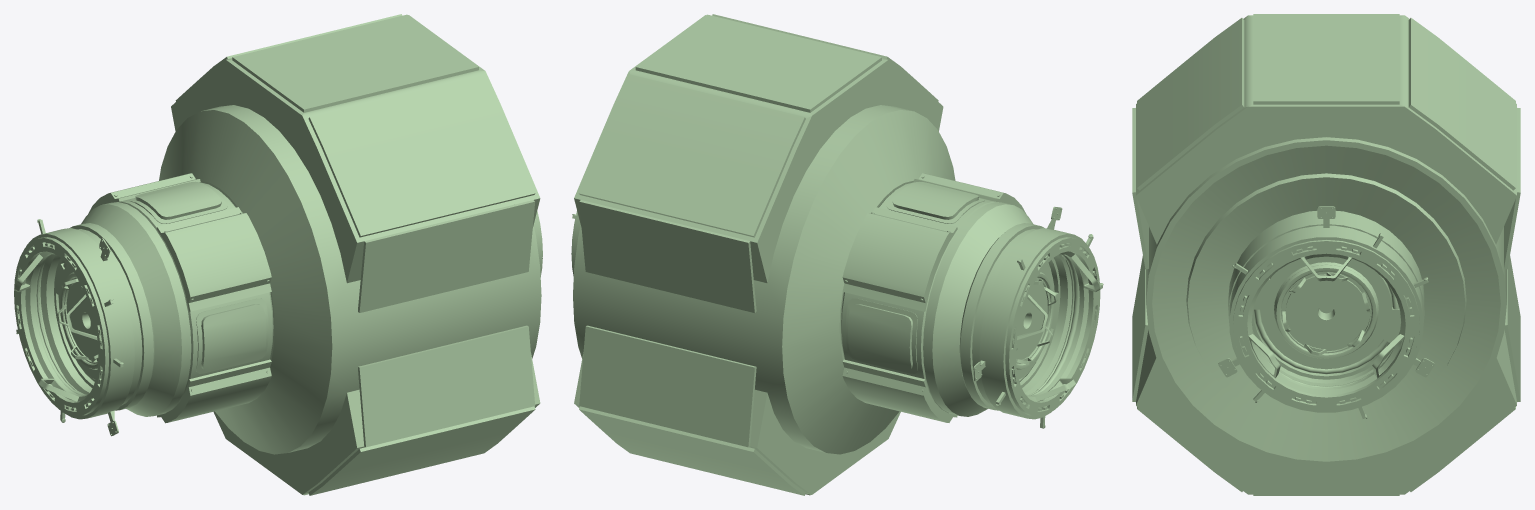
File: Espirit_Refueller.FBX
3 views of the same model, side by side, from view 1: azimuth 30°, elevation 25°; view 2: azimuth 150°, elevation 25°; view 3: azimuth 270°, elevation 25° (orthographic). The views are drawn at different scales.
Visible parts, largest first — view 1: Espirit_Refueller_Main, Espirit_Refueller_Detail02, Espirit_Refueller_Connector01_Main01, Espirit_Refueller_Connector01_Main01_Outer01, Espirit_Refueller_Connector01_Main01_OuterRing01, Espirit_Refueller_Detail01, Espirit_Refueller_Detail04, Espirit_Refueller_Detail03, Espirit_Refueller_Detail08; view 2: Espirit_Refueller_Main, Espirit_Refueller_Detail08, Espirit_Refueller_Connector01_Main01, Espirit_Refueller_Connector01_Main01_Outer01, Espirit_Refueller_Connector01_Main01_OuterRing01, Espirit_Refueller_Detail07, Espirit_Refueller_Detail06, Espirit_Refueller_Detail03, Espirit_Refueller_Detail02, Espirit_Refueller_Connector01_Main01_cable01; view 3: Espirit_Refueller_Main, Espirit_Refueller_Connector02_Main02, Espirit_Refueller_Connector02_Main02_Outer01, Espirit_Refueller_Connector02_Main02_OuterRing01, Espirit_Refueller_Connector02_Main02_Cable03.
Boxes of the visible parts, x1,y1,x2,y2 form: Espirit_Refueller_Main: (69,14,541,495); Espirit_Refueller_Detail02: (156,207,271,311); Espirit_Refueller_Connector01_Main01: (14,251,98,401); Espirit_Refueller_Connector01_Main01_Outer01: (14,229,142,416); Espirit_Refueller_Connector01_Main01_OuterRing01: (16,219,134,436); Espirit_Refueller_Detail01: (196,298,268,373); Espirit_Refueller_Detail04: (157,359,271,423); Espirit_Refueller_Detail03: (129,181,227,223); Espirit_Refueller_Detail08: (88,173,200,213); Espirit_Refueller_Main: (573,14,1044,495); Espirit_Refueller_Detail08: (842,207,957,311); Espirit_Refueller_Connector01_Main01: (1016,251,1100,401); Espirit_Refueller_Connector01_Main01_Outer01: (972,229,1100,416); Espirit_Refueller_Connector01_Main01_OuterRing01: (973,206,1103,428); Espirit_Refueller_Detail07: (845,298,917,373); Espirit_Refueller_Detail06: (842,359,957,422); Espirit_Refueller_Detail03: (886,182,984,223); Espirit_Refueller_Detail02: (914,173,1025,213); Espirit_Refueller_Connector01_Main01_cable01: (1030,254,1079,395); Espirit_Refueller_Main: (1132,14,1520,495); Espirit_Refueller_Connector02_Main02: (1247,253,1405,395); Espirit_Refueller_Connector02_Main02_Outer01: (1233,240,1419,410); Espirit_Refueller_Connector02_Main02_OuterRing01: (1218,206,1434,418); Espirit_Refueller_Connector02_Main02_Cable03: (1254,283,1398,374).
Size of the model in its own units: 450 by 351 by 313.
